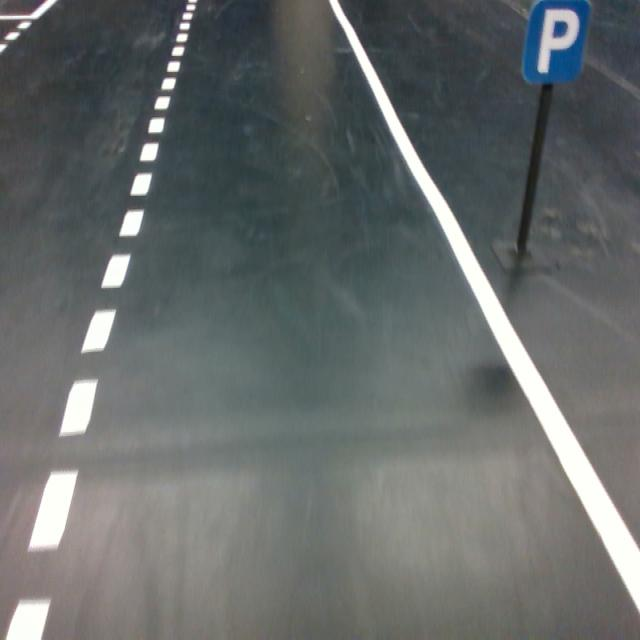parking-sign: (521, 0, 593, 86)
